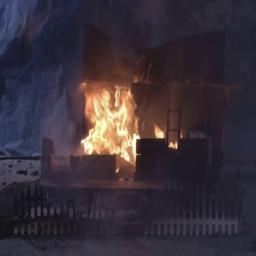fire: (84, 72, 154, 160)
